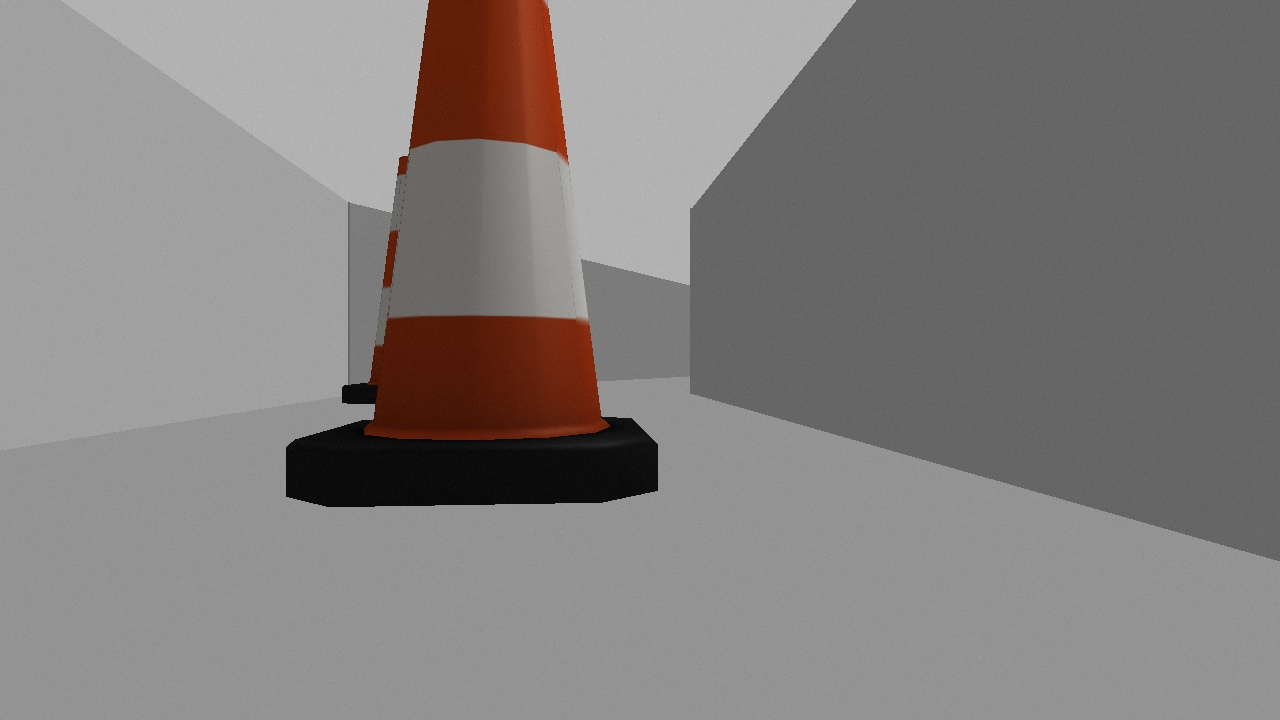barricade: (286, 1, 660, 506)
